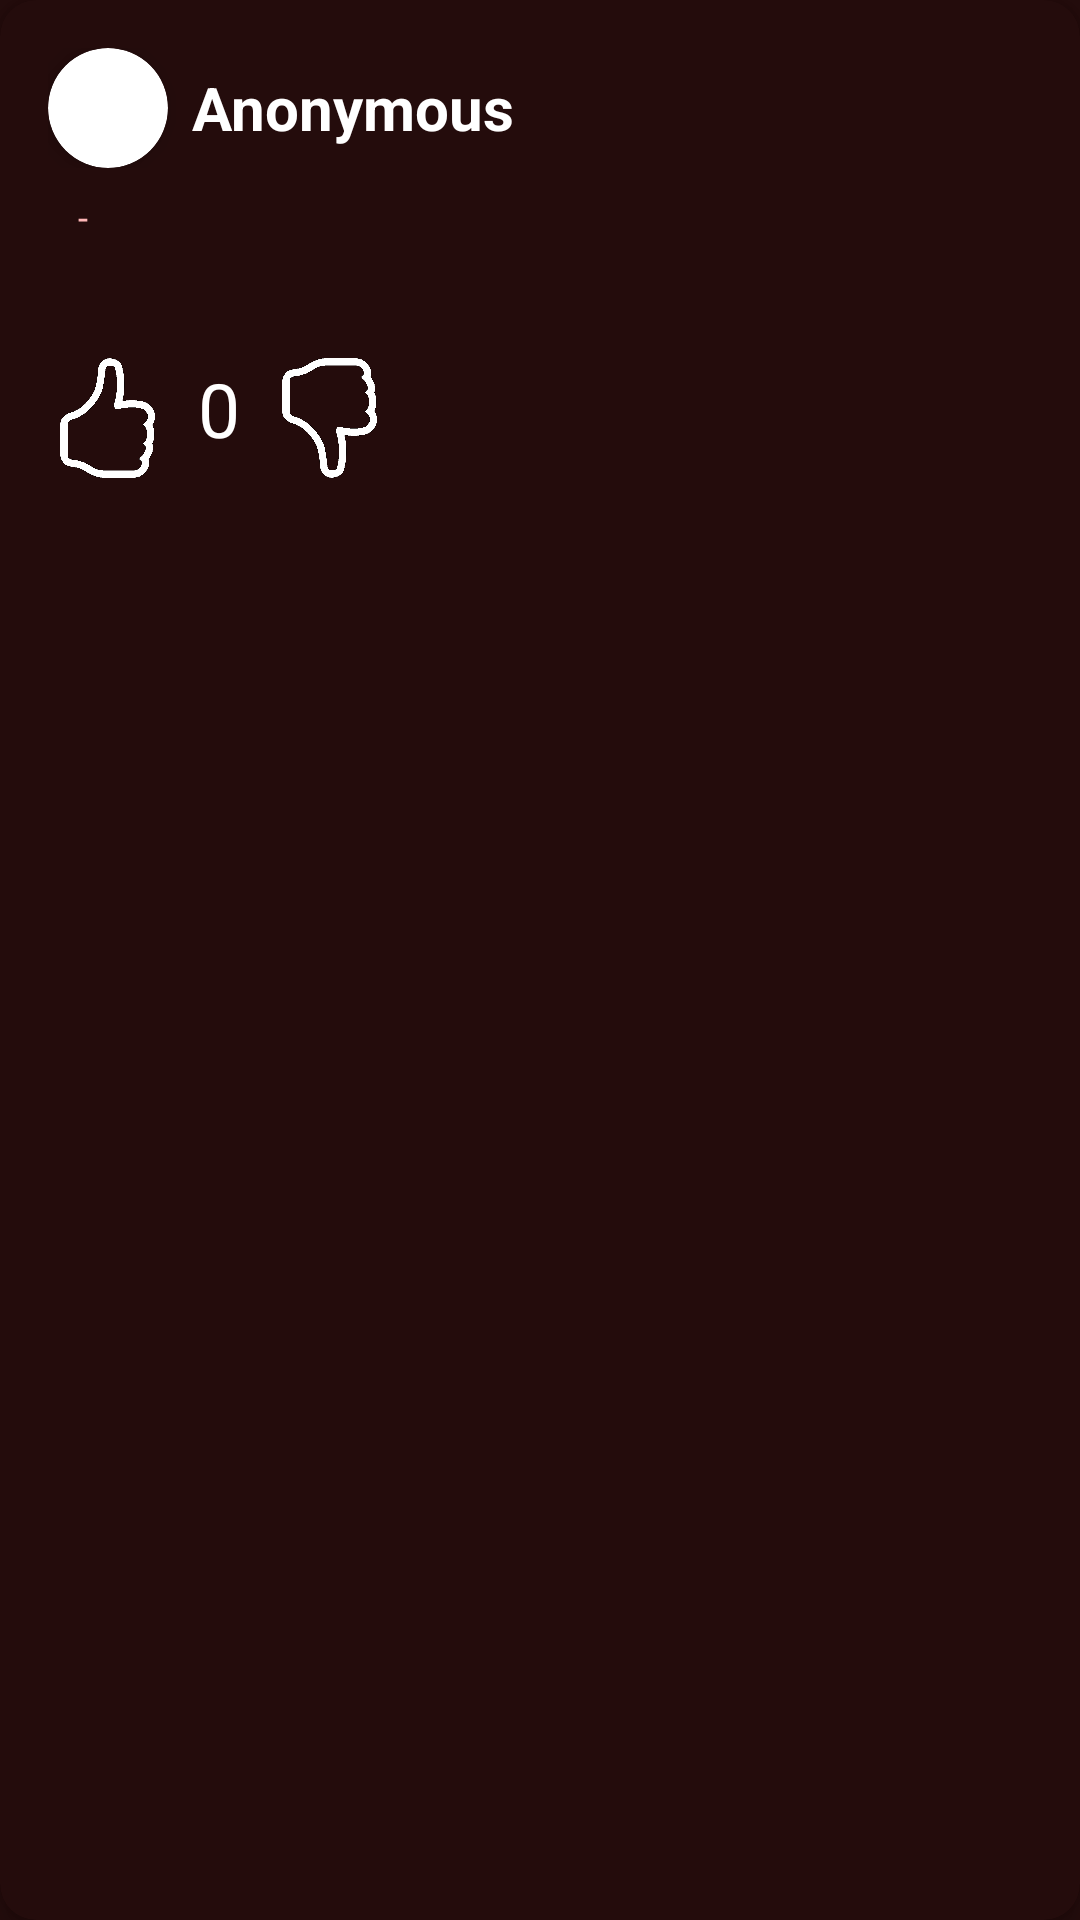

Icons on this 1080px x 1920px Android screen, each with its box as (x1, y1, x2, y2):
Dislike: (282, 358, 377, 478)
Like: (60, 358, 155, 478)
